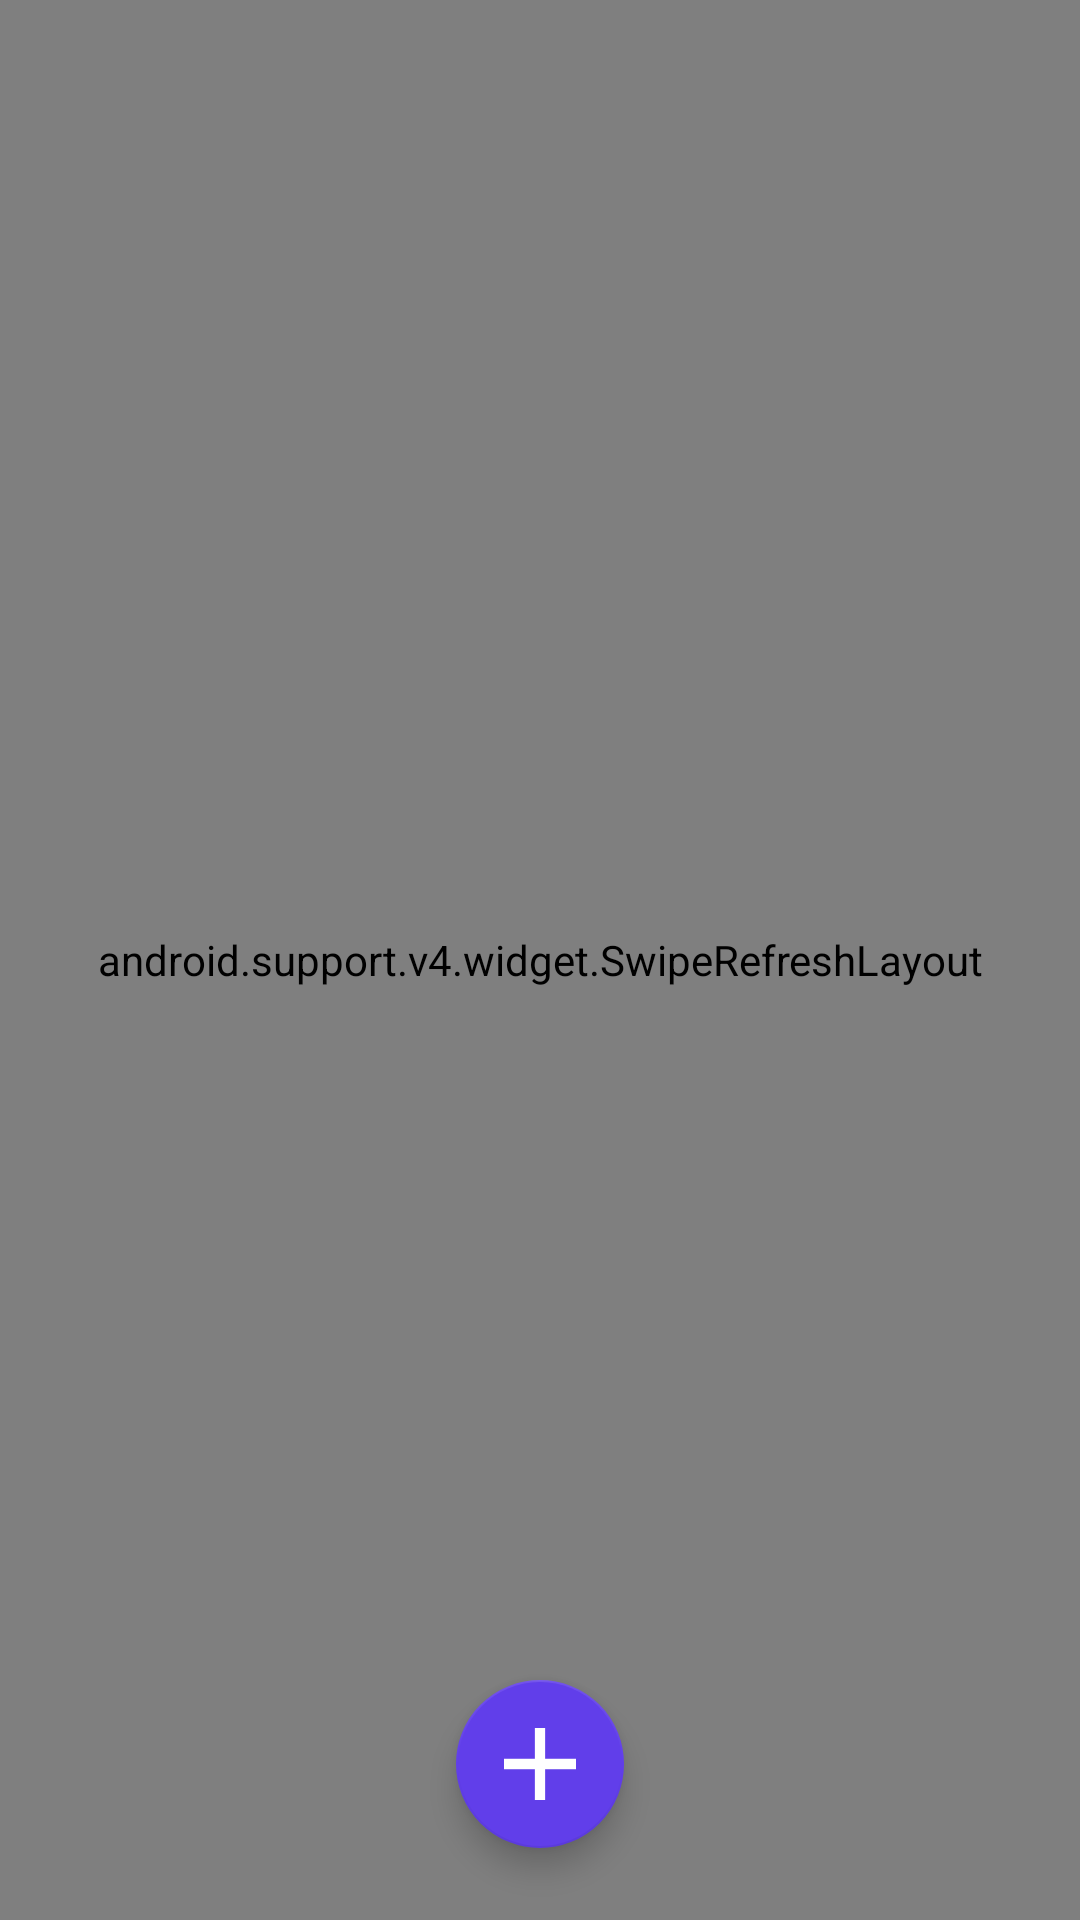

Point at icon controls on the screen. Image size 1080 x 1920, points as (x=x, y=y).
plus: (x=540, y=1764)
